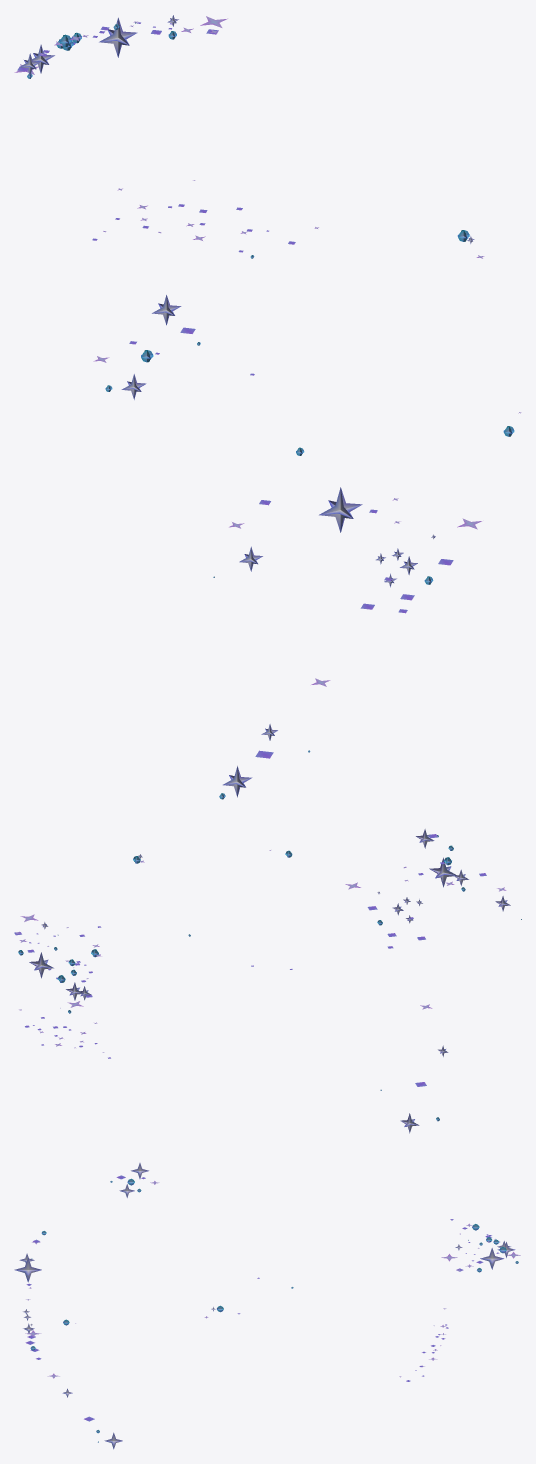
3 renders of one model, top to bottom at view 1: azimuth 30°, elevation 25°; view 2: azimuth 150°, elevation 25°; view 3: azimuth 270°, elevation 25°, orthographic. The views are drawn at different scales.
Visible parts, largest first — view 1: starcloud247; view 2: starcloud247; view 3: starcloud247.
Boxes of the visible parts, box(x1,y1,x2,y2) form: starcloud247: box(14, 15, 521, 799); starcloud247: box(14, 829, 521, 1133); starcloud247: box(14, 1163, 520, 1449).
Size of the model in its own units: 0.2828 by 0.2998 by 0.5.
